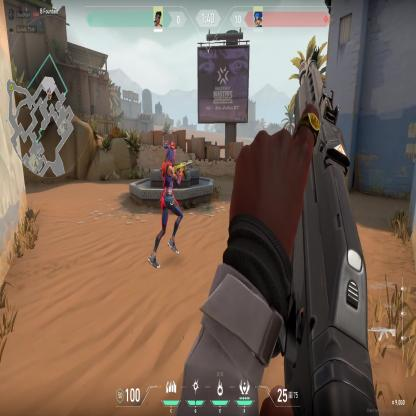enemy: (147, 138, 187, 275)
